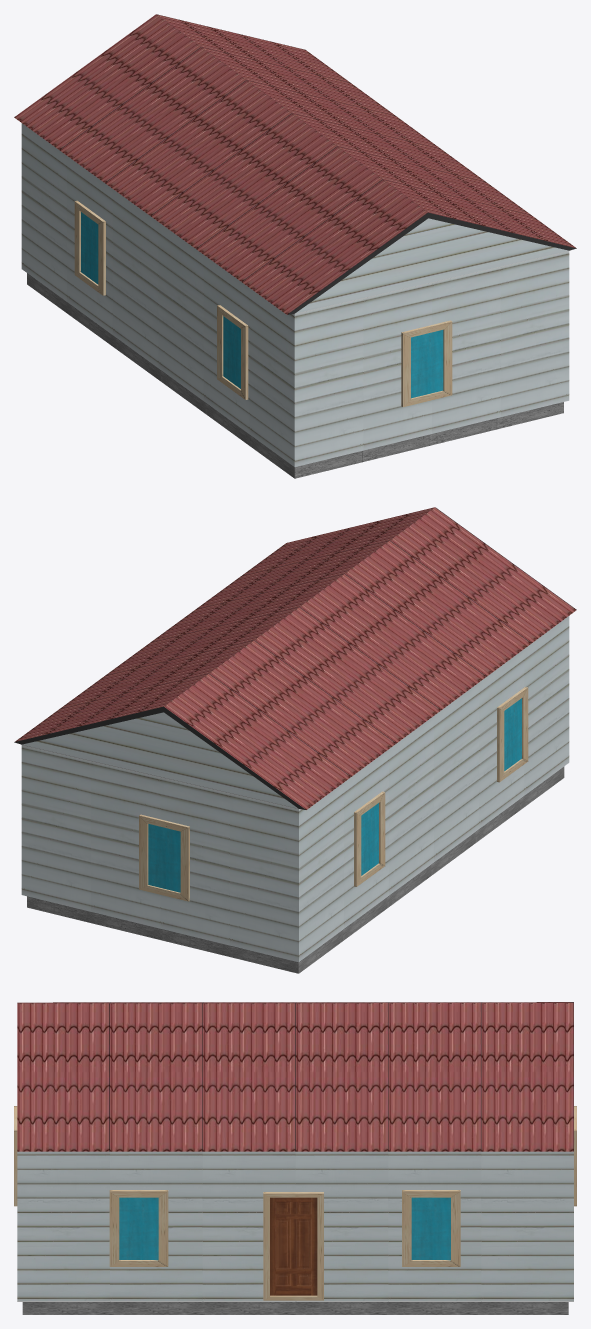
Rendered from Hus2.glb.
The picture shows the model from 3 angles, top to bottom: view 1: azimuth 30°, elevation 25°; view 2: azimuth 150°, elevation 25°; view 3: azimuth 270°, elevation 25°; orthographic projection. The views are drawn at different scales.
Parts seen in each view (by area): view 1: Hus2; view 2: Hus2; view 3: Hus2.
Part boxes in pixels (bbox=[...]): Hus2: bbox=[14, 14, 576, 478]; Hus2: bbox=[14, 507, 576, 973]; Hus2: bbox=[14, 1002, 576, 1314].
Size of the model in its own units: 7.17 by 5.55 by 11.69.
Materials: 1 (1 with a texture image).
